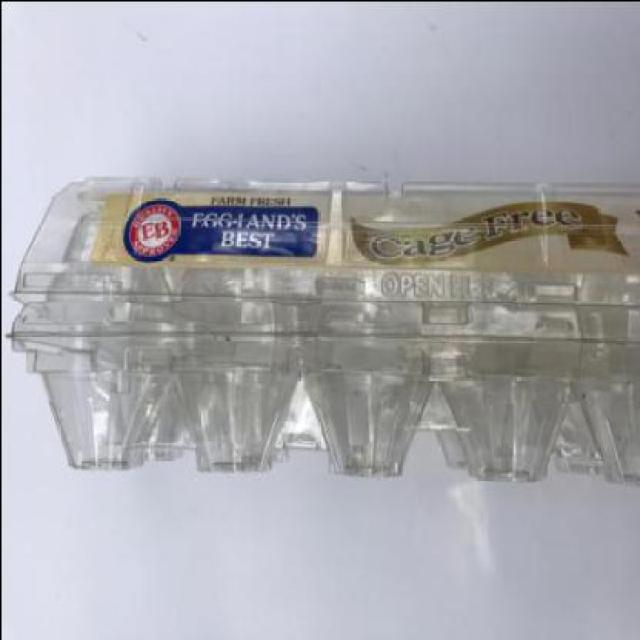PLASTIC: (2, 172, 640, 470)
